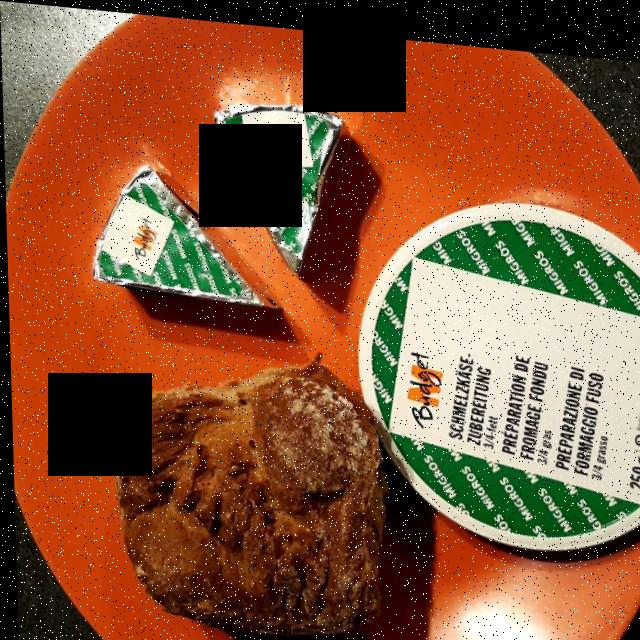bread-wholemeal: (99, 361, 388, 640)
